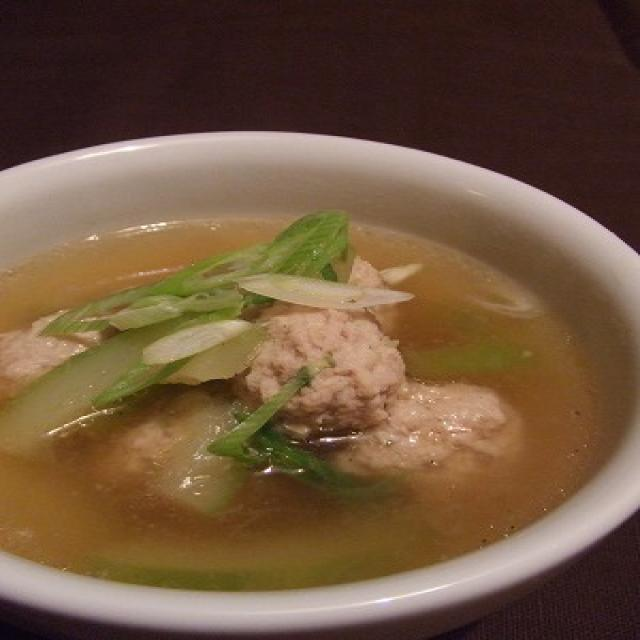汤锅炖物: (0, 133, 640, 605)
